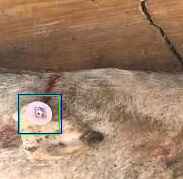text: (19, 95, 59, 134)
